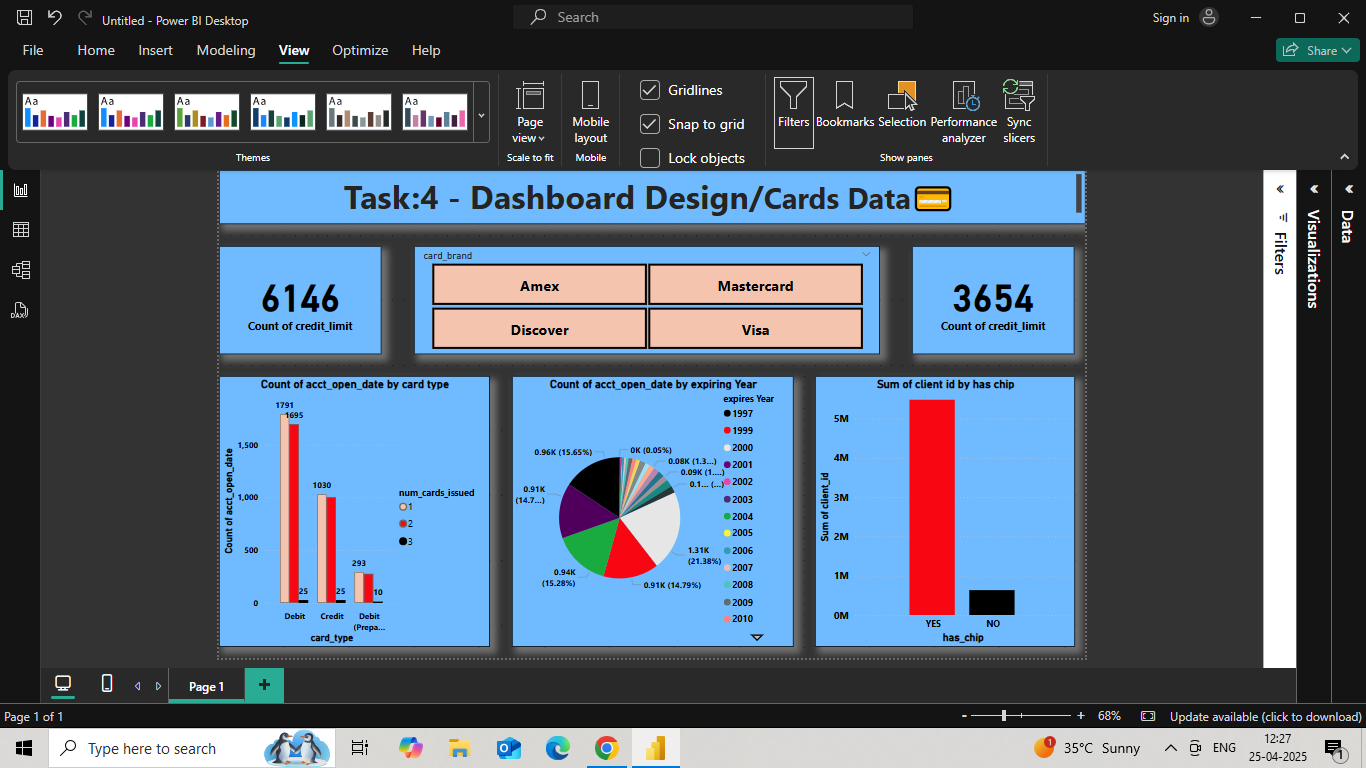

The page's visual inventory and layout, read from the dashboard file:
{"tool":"powerbi","page":{"name":"Page 1","canvas":[1280,720],"ordinal":0},"visuals":[{"type":"textbox","box":[0,0,1280,80],"z":0},{"type":"card","fields":{"Values":["CountNonNull(cards_data.credit_limit)"]},"box":[0,112,240,160],"z":2},{"type":"card","fields":{"Values":["Count(cards_data.credit_limit)"]},"box":[1024,112,240,160],"z":4},{"type":"slicer","fields":{"Values":["cards_data.card_brand"]},"box":[288,112,688,160],"z":6},{"type":"clusteredColumnChart","title":"Count of acct_open_date by card type","fields":{"Category":["cards_data.card_type"],"Y":["CountNonNull(cards_data.acct_open_date)"],"Series":["cards_data.num_cards_issued"]},"box":[0,304,400,400],"z":7},{"type":"pieChart","title":"Count of acct_open_date by expiring Year","fields":{"Y":["CountNonNull(cards_data.acct_open_date)"],"Category":["cards_data.expires.Variation.Date Hierarchy.Year","cards_data.expires.Variation.Date Hierarchy.Month"]},"box":[432,304,416,400],"z":8},{"type":"columnChart","title":"Sum of client id by has chip","fields":{"Category":["cards_data.has_chip"],"Y":["Sum(cards_data.client_id)"]},"box":[880,304,384,400],"z":9}]}

Visuals, with their boxes on the page's 1280x720 design canvas (x1, y1, x2, y2). These are canvas units, not pixel positions in the 1366x768 screenshot, which may show the page scaled, cropped or inside an application window:
textbox: bbox(0, 0, 1280, 80)
card - CountNonNull(cards_data.credit_limit): bbox(0, 112, 240, 272)
card - Count(cards_data.credit_limit): bbox(1024, 112, 1264, 272)
slicer - cards_data.card_brand: bbox(288, 112, 976, 272)
"Count of acct_open_date by card type" clusteredColumnChart: bbox(0, 304, 400, 704)
"Count of acct_open_date by expiring Year" pieChart: bbox(432, 304, 848, 704)
"Sum of client id by has chip" columnChart: bbox(880, 304, 1264, 704)
